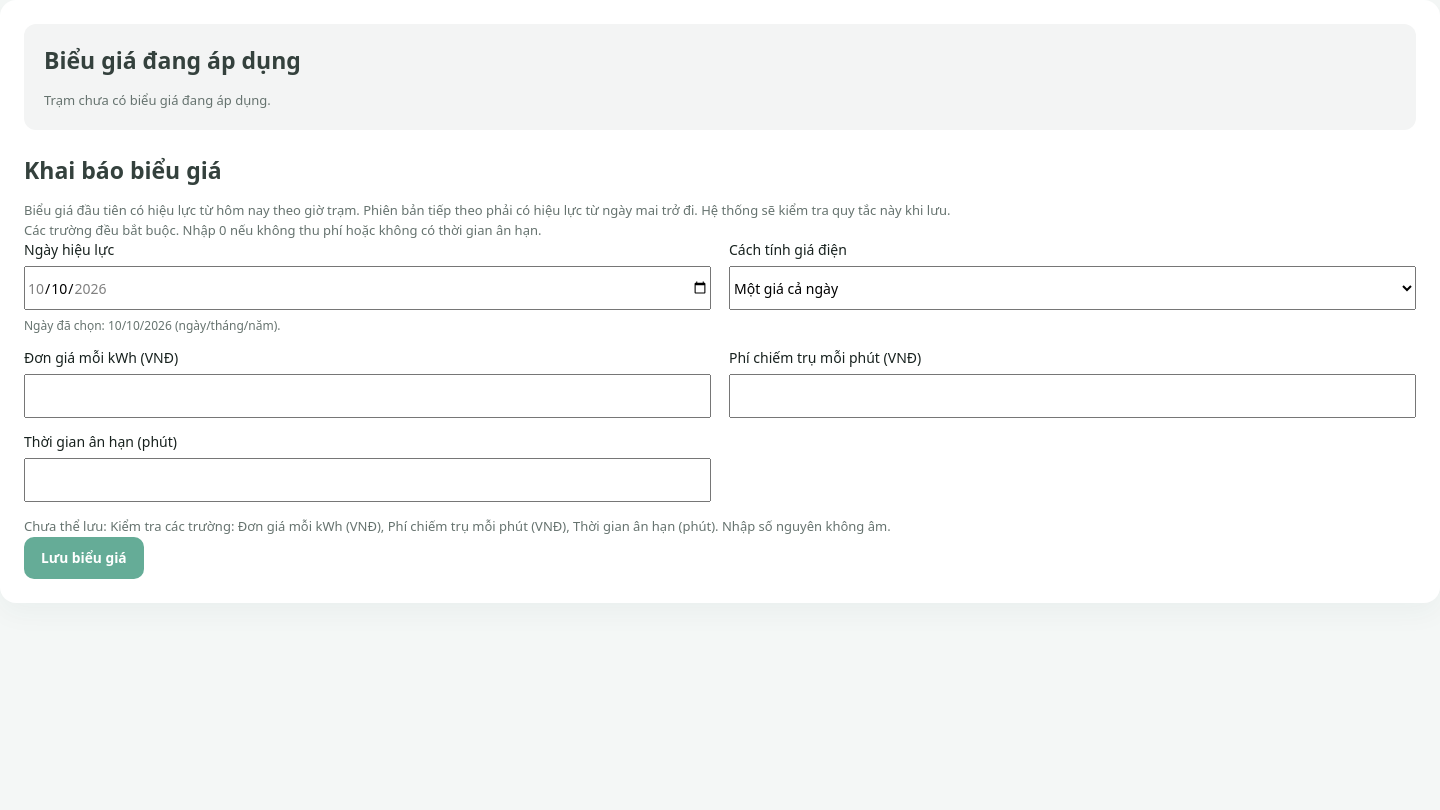
Test: distinguishes a committed save from a failed refresh and never sends another POST
The image size is (1440, 810).
Check: the text "Trạm chưa có biểu giá đang áp dụng." is shown, box [44,91,271,109]
Step 1. Type "3500" into the field labelled "Đơn giá mỗi kWh (VNĐ)" → (368, 396), box [24,374,711,418]
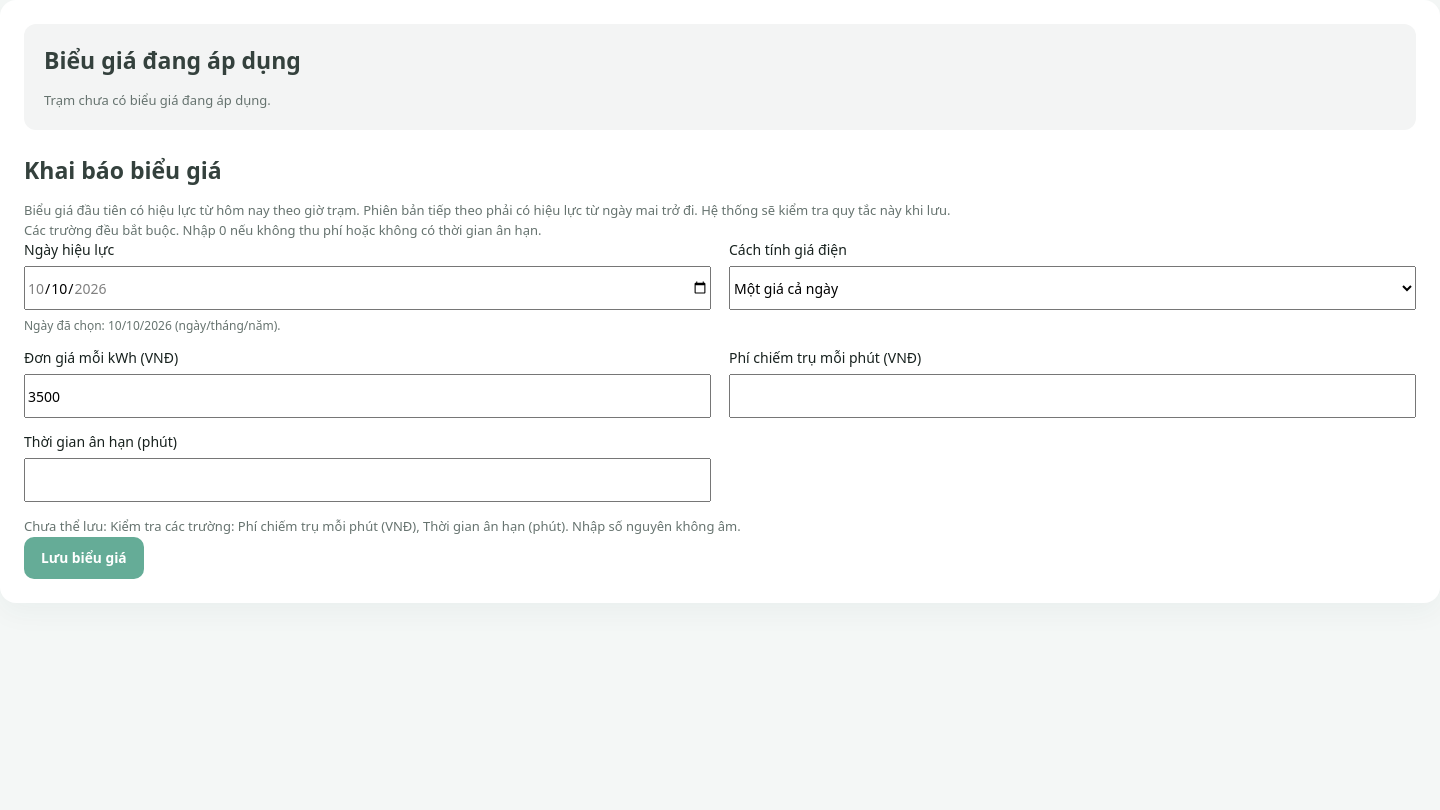
Step 2. Type "500" into the field labelled "Phí chiếm trụ mỗi phút (VNĐ)" → (1072, 396), box [729,374,1416,418]
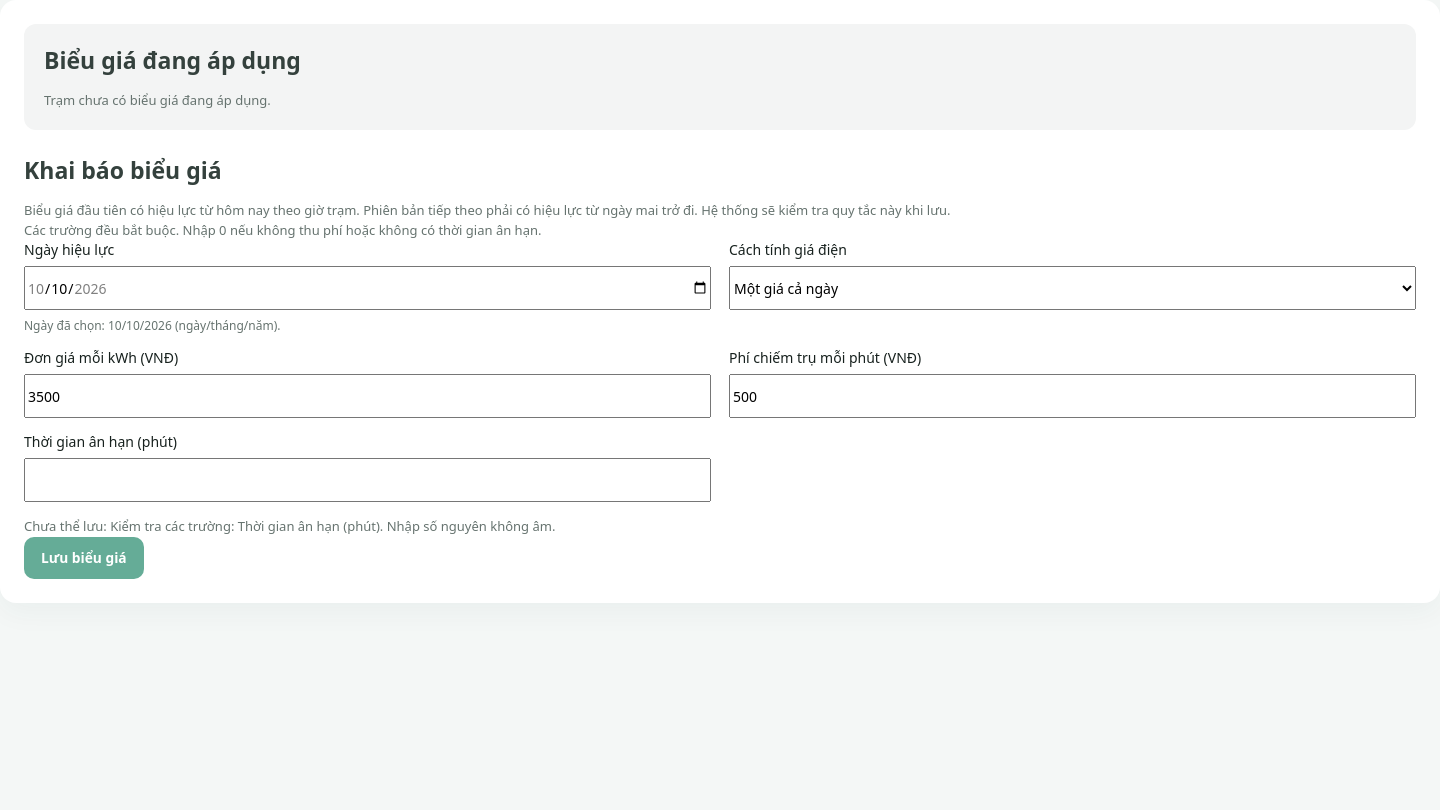
Step 3. Type "5" into the field labelled "Thời gian ân hạn (phút)" → (368, 480), box [24,458,711,502]
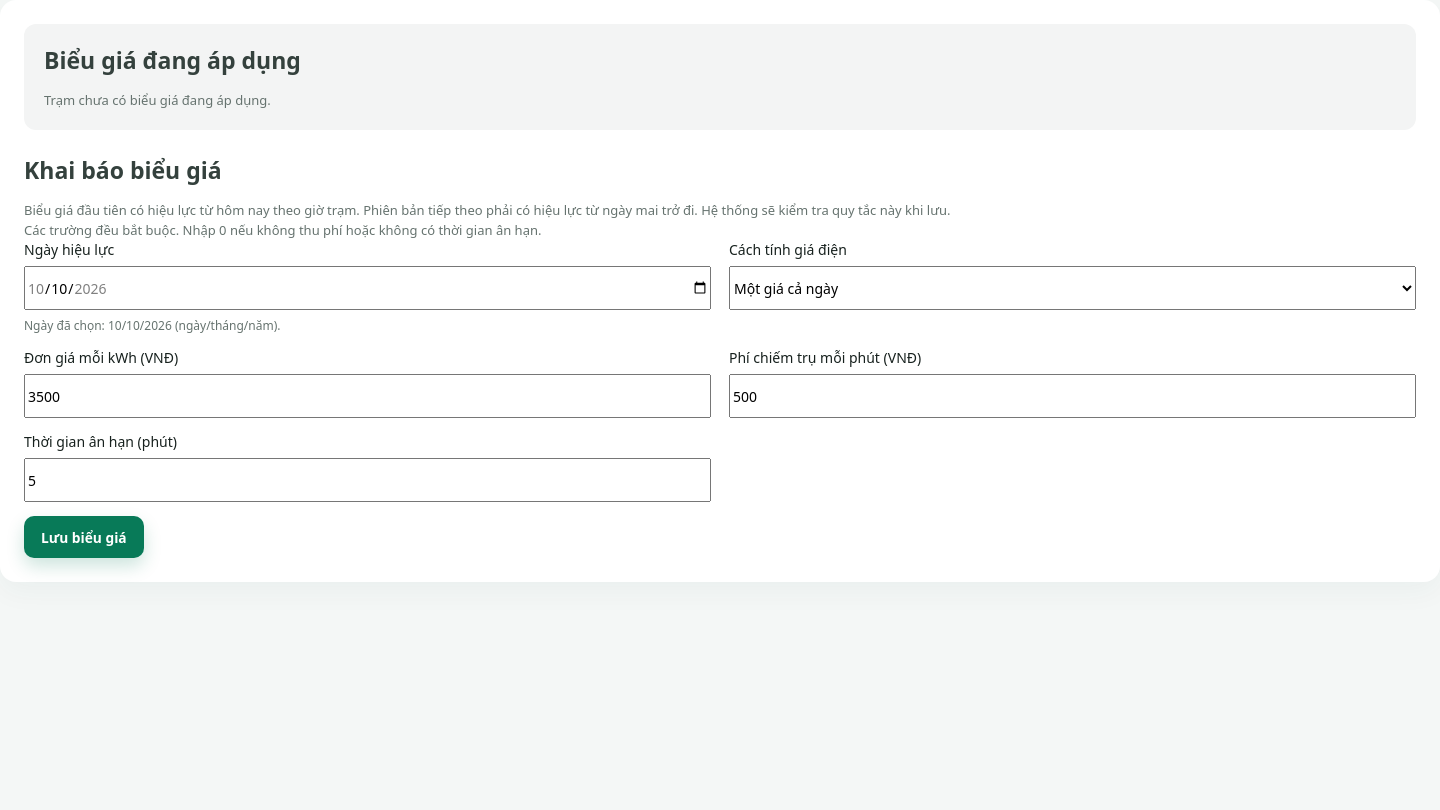
Step 4. Click the button "Lưu biểu giá" → (84, 537), box [24,516,144,558]
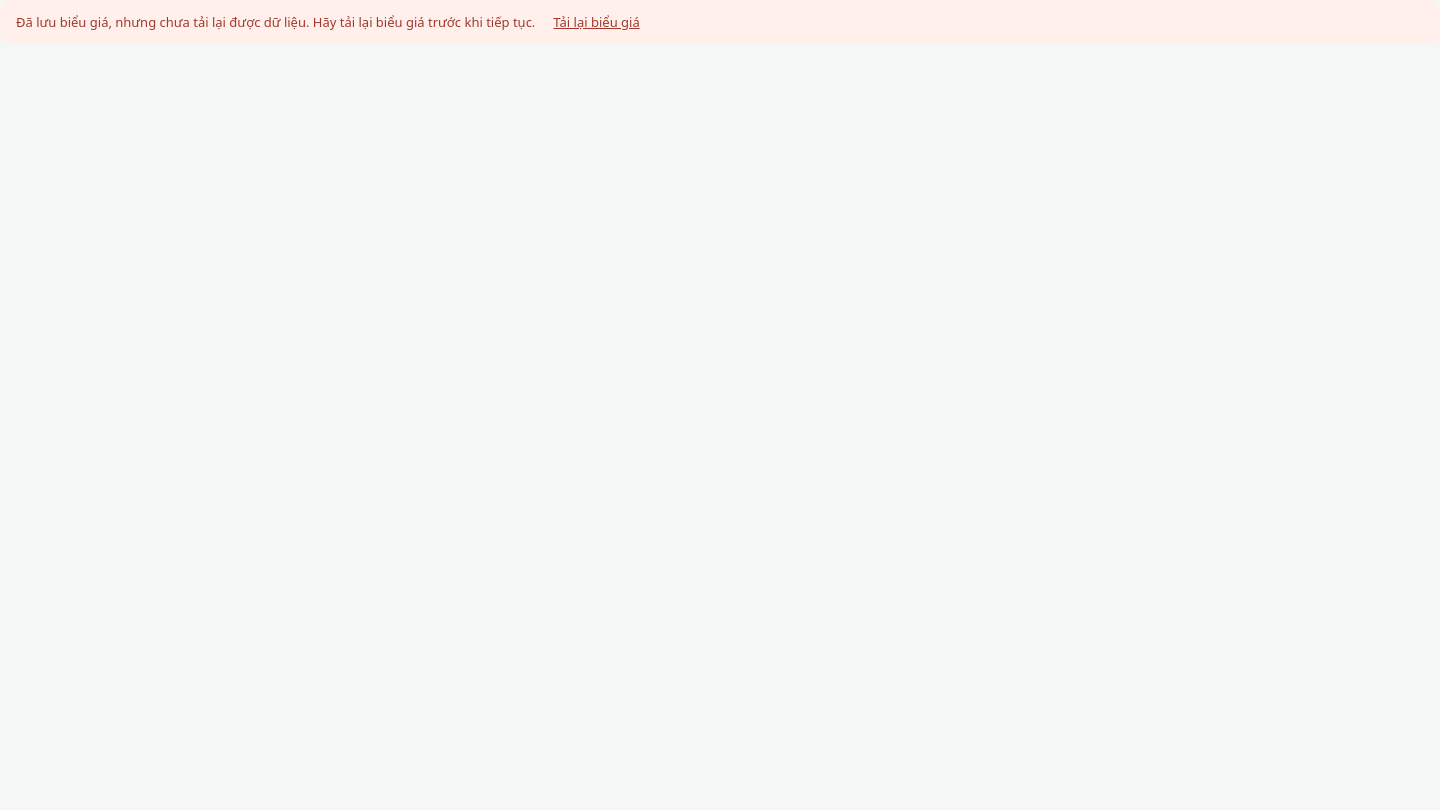
Check: the text "Đã lưu biểu giá, nhưng chưa tải lại" is shown, box [16,13,535,31]
